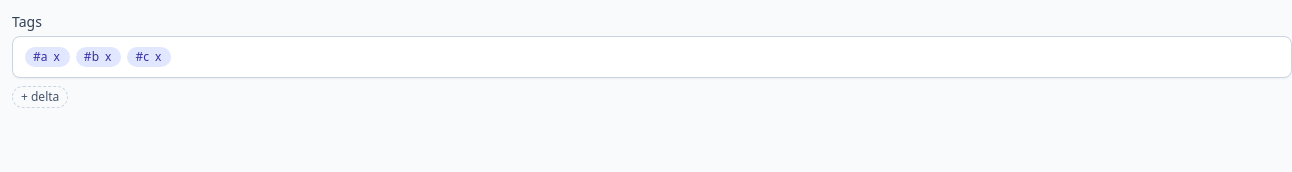
it: TagInput › enforces the maximum and offers suggestions not already selected
Step 1. Click the button "+ delta" → (40, 97), box [12, 86, 68, 108]
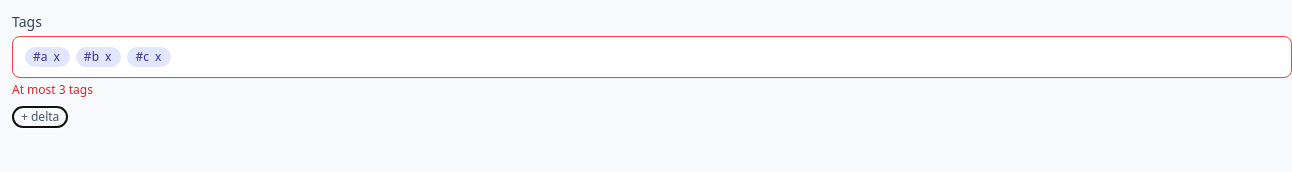
Check: the message reads "At most 3 tags", box [12, 81, 93, 98]
